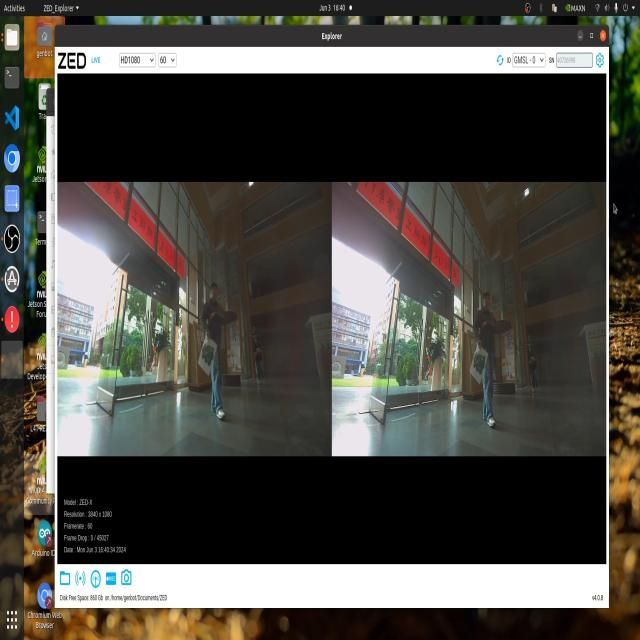green: (469, 348, 489, 381), (201, 340, 219, 366)
